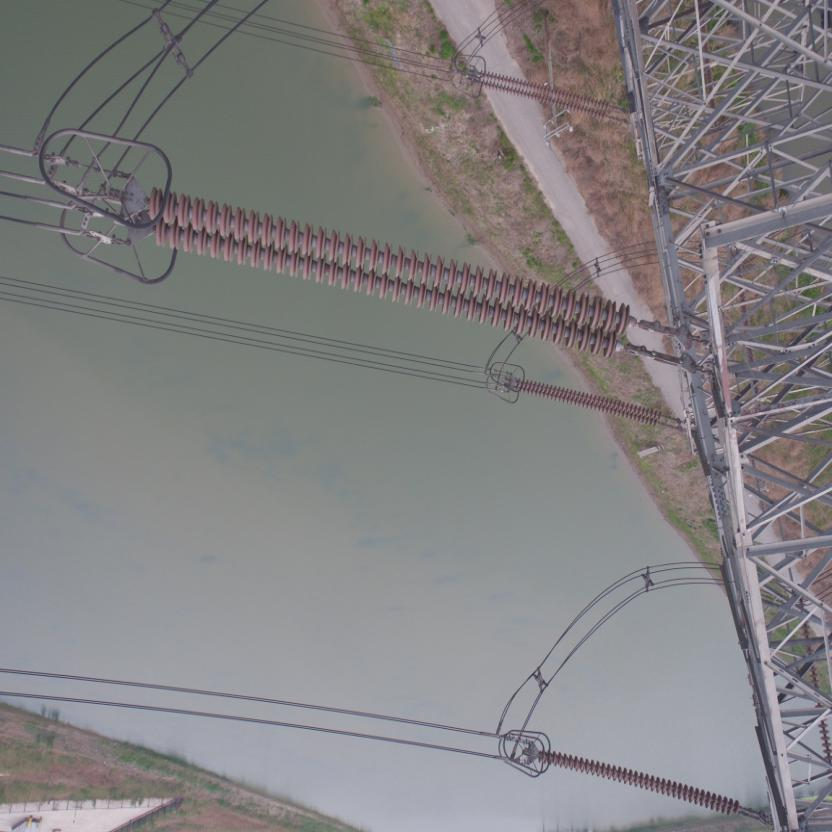insulator: (138, 185, 658, 363), (532, 752, 751, 819), (510, 376, 672, 432), (474, 68, 624, 126)
